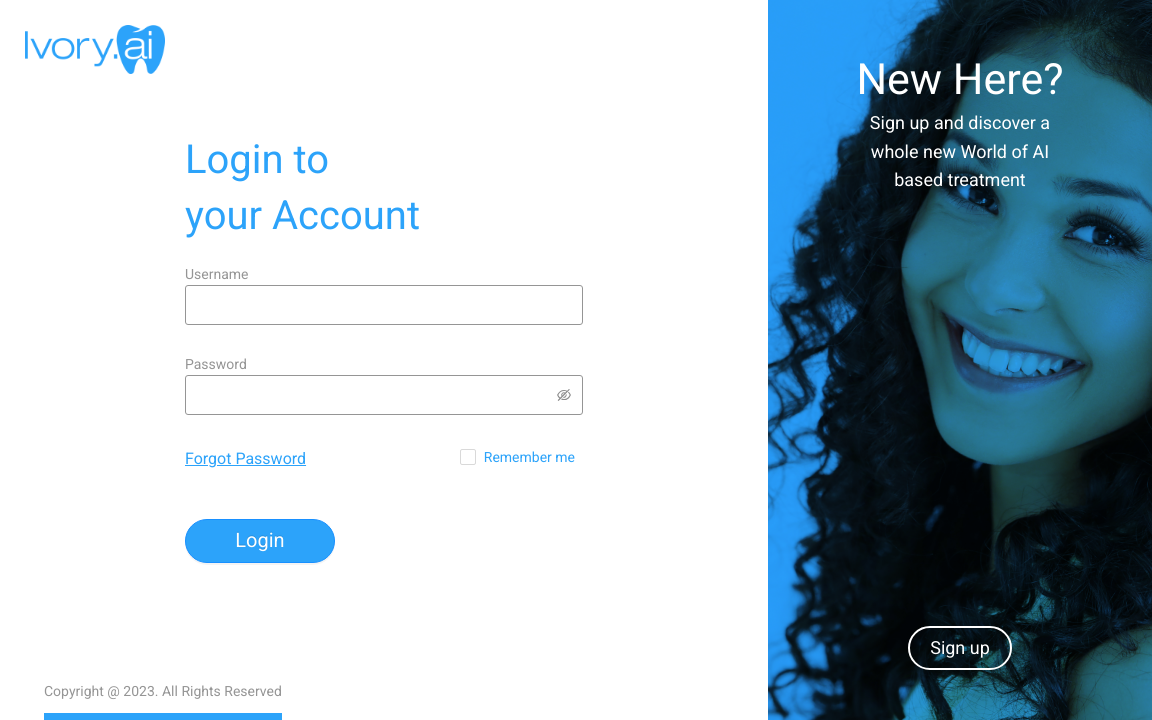
it: Writing test case for Patient Login Page › 21, test case for error message when user enter more than 30 characters in userName Input
Type "bbbbbbbbbbbbbbbbbbbbbbbbbbbbbbb" into the field with test id "user-name-input" at (384, 305), box left=185, top=285, right=583, bottom=325
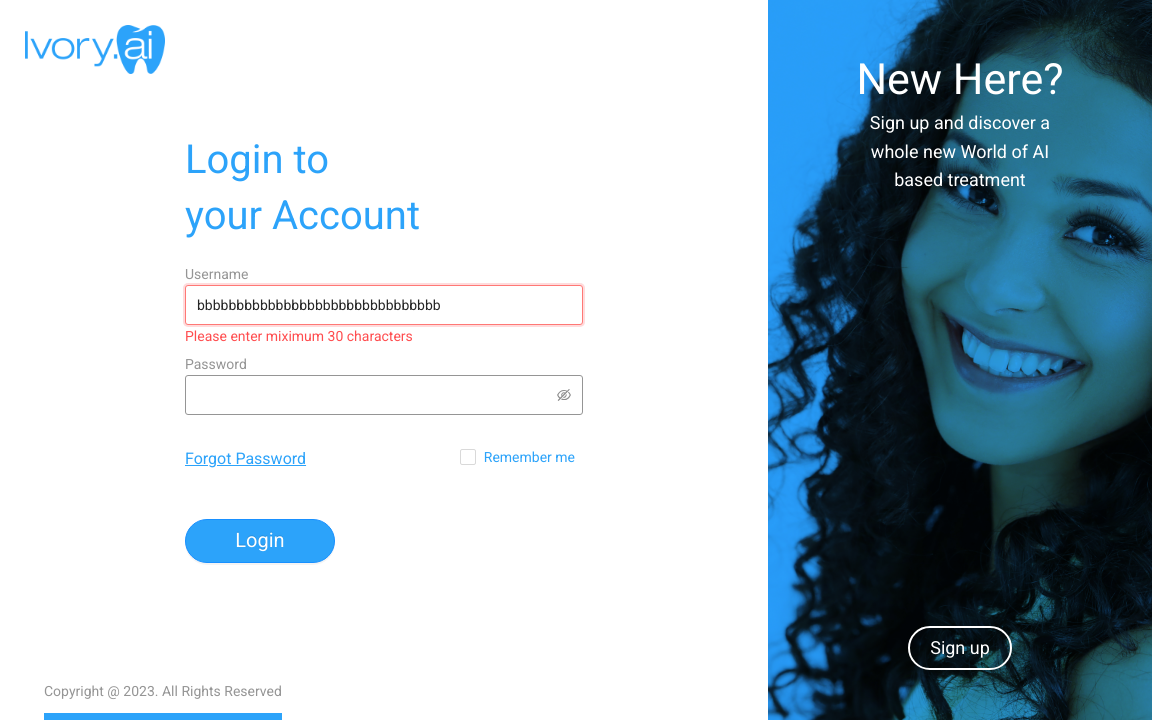
Result: the text "Please enter miximum 30 characters" is shown at left=185, top=328, right=413, bottom=344
